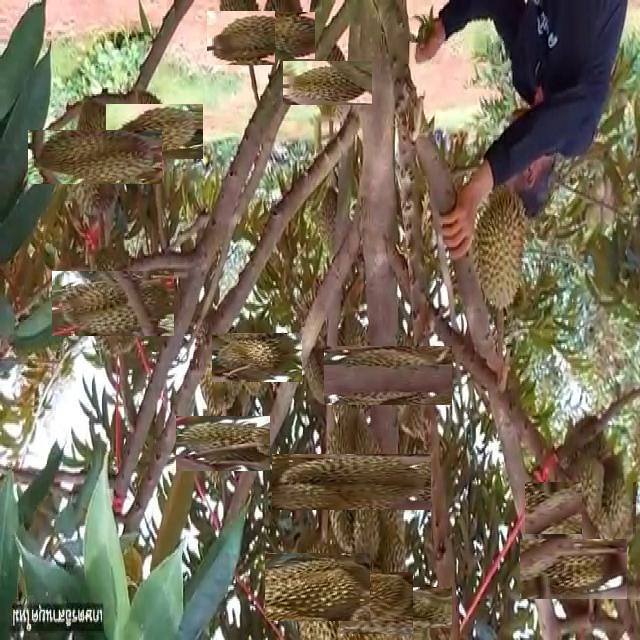durian: (298, 428, 406, 536), (47, 110, 142, 205), (341, 328, 435, 422), (66, 257, 160, 350), (469, 185, 529, 317), (275, 544, 361, 630), (532, 528, 616, 612), (540, 467, 622, 549), (116, 93, 192, 170), (582, 446, 633, 558), (186, 406, 261, 481), (194, 316, 243, 418), (222, 323, 292, 392), (343, 569, 411, 637), (295, 50, 361, 116), (210, 7, 272, 68), (254, 7, 311, 64), (394, 582, 446, 634)
